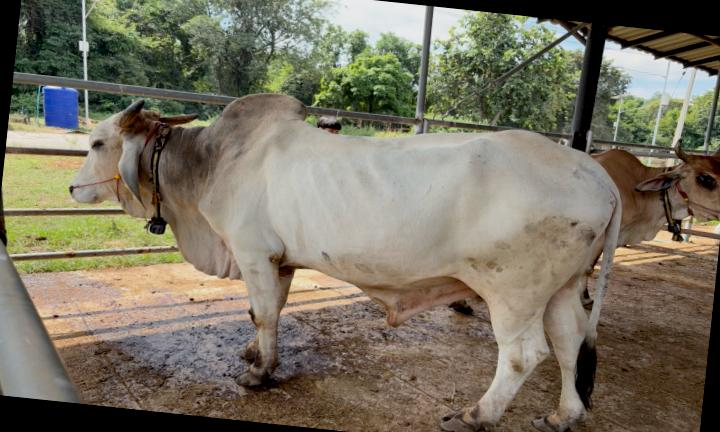Brahman: (71, 94, 621, 432)
